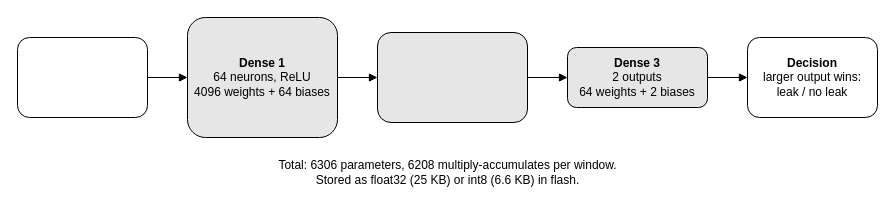
Some shapes in this 895 by 210 pixel diagram are drawn without their labels. Here are the shapes that lost their labels. From the top down, the centre of each, then its label:
At [82,77]: "Input 64 band features (standardised)".
At [452,77]: "Dense 2 32 neurons, ReLU 2048 weights + 32 biases".
